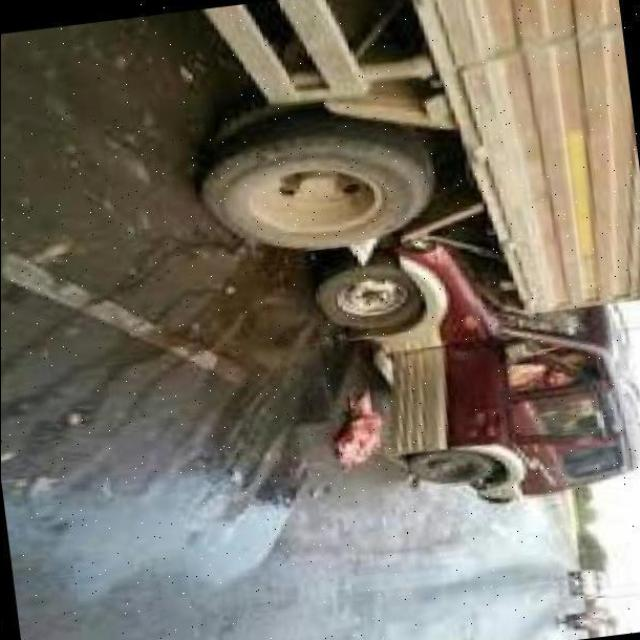accident: (332, 180, 640, 525)
